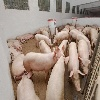heo: (45, 54, 69, 100), (23, 51, 59, 70), (68, 42, 81, 93), (15, 77, 38, 100), (78, 40, 91, 76), (34, 32, 53, 45), (53, 29, 69, 43), (37, 40, 51, 52), (58, 39, 68, 55)
